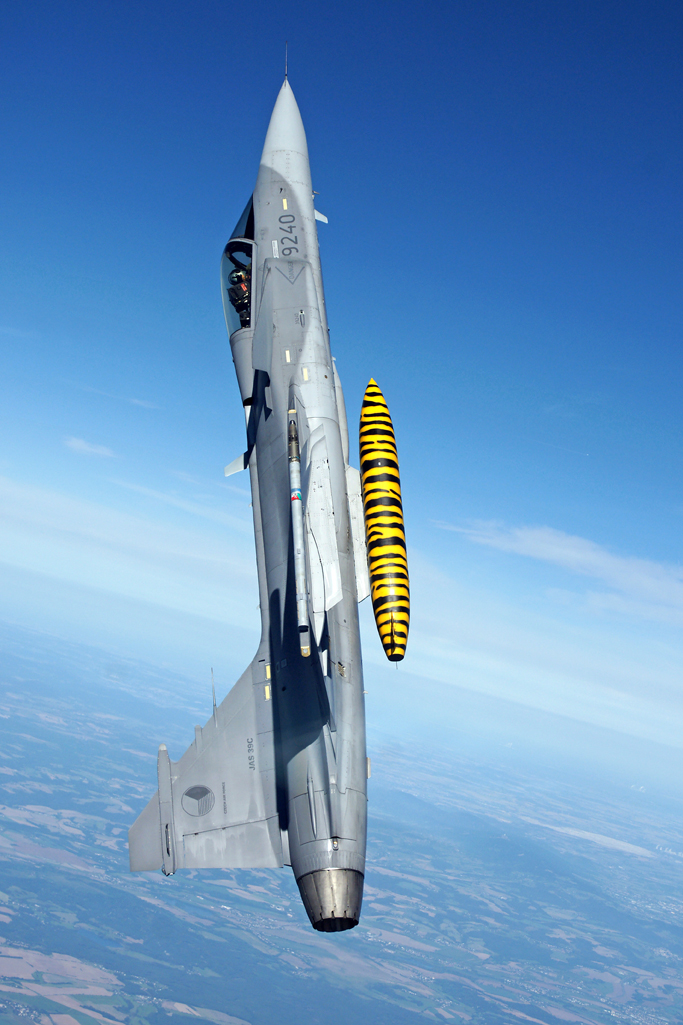JAS39: (128, 46, 410, 933)
